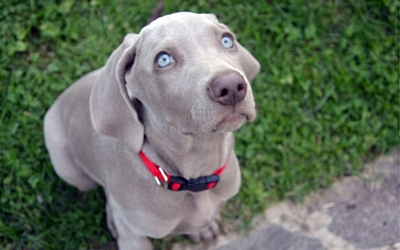dog: (84, 5, 299, 157)
